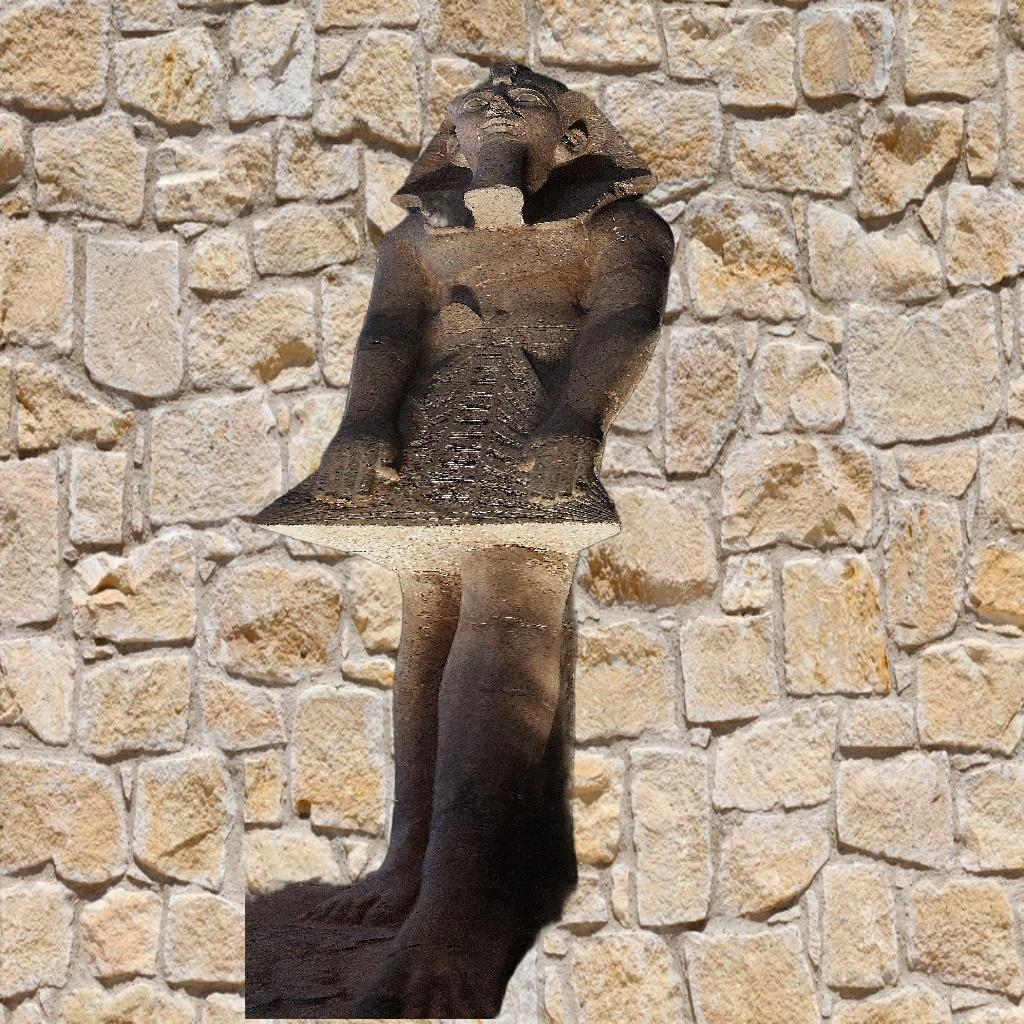Colossal Statue of Queen Hatshepsut: (245, 46, 680, 1020)
